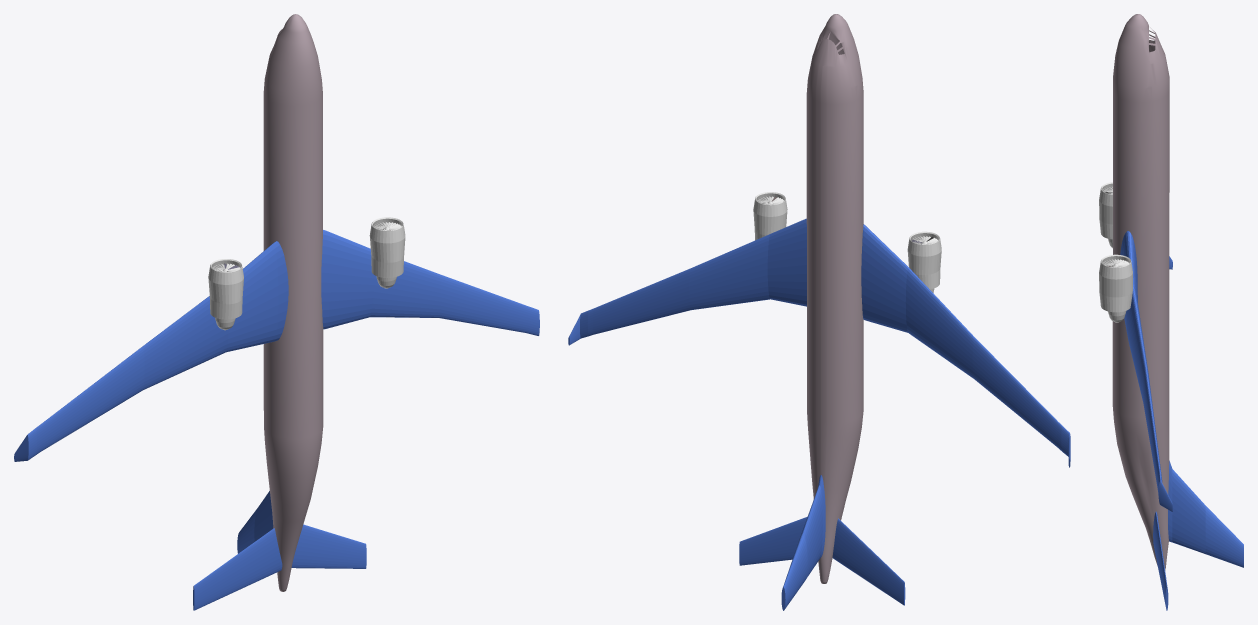
The model's file is perpendicular_airplane_blue.glb.
3 renders of one model, left to right at view 1: azimuth 30°, elevation 25°; view 2: azimuth 150°, elevation 25°; view 3: azimuth 270°, elevation 25°, orthographic. The views are drawn at different scales.
Visible parts, largest first — view 1: Circle.001, Cylinder, Cylinder.002, Cylinder.009, Cylinder.006, Cylinder.001, Cylinder.003; view 2: Circle.001, Cylinder, Cylinder.002, Cylinder.001, Cylinder.009, Cylinder.006; view 3: Circle.001, Cylinder.001, Cylinder, Cylinder.009, Cylinder.003, Cylinder.002.
Boxes of the visible parts, x1,y1,x2,y2 form: Circle.001: (263, 14, 323, 591); Cylinder: (14, 230, 539, 461); Cylinder.002: (193, 524, 366, 610); Cylinder.009: (369, 217, 405, 277); Cylinder.006: (208, 259, 241, 319); Cylinder.001: (237, 491, 273, 553); Cylinder.003: (210, 259, 243, 319); Circle.001: (806, 14, 863, 583); Cylinder: (568, 218, 1070, 467); Cylinder.002: (739, 516, 905, 605); Cylinder.001: (781, 475, 825, 610); Cylinder.009: (753, 192, 787, 240); Cylinder.006: (909, 231, 941, 289); Circle.001: (1112, 14, 1169, 569); Cylinder.001: (1168, 460, 1243, 567); Cylinder: (1120, 231, 1172, 511); Cylinder.009: (1099, 254, 1132, 312); Cylinder.003: (1099, 182, 1112, 239); Cylinder.002: (1153, 511, 1168, 610).
Size of the model in its own units: 59.81 by 63.83 by 15.03.
